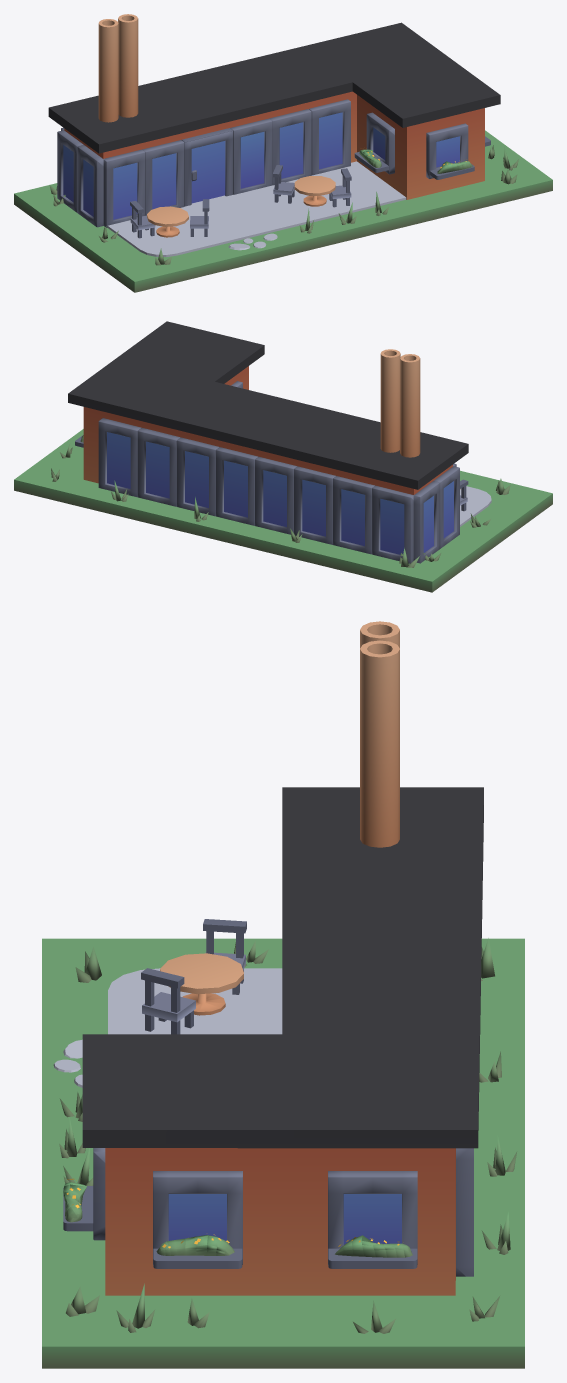
File: brewery.glb
The picture shows the model from 3 angles, top to bottom: view 1: azimuth 30°, elevation 25°; view 2: azimuth 150°, elevation 25°; view 3: azimuth 270°, elevation 25°; orthographic projection. The views are drawn at different scales.
Parts seen in each view (by area): view 1: brewery; view 2: brewery; view 3: brewery.
Part boxes in pixels (box(x1,y1,x2,y2)): brewery: box(14, 14, 552, 292); brewery: box(14, 321, 552, 592); brewery: box(42, 621, 524, 1368).
Size of the model in its own units: 2 by 0.8852 by 1.
Materials: 1 (1 with a texture image).
